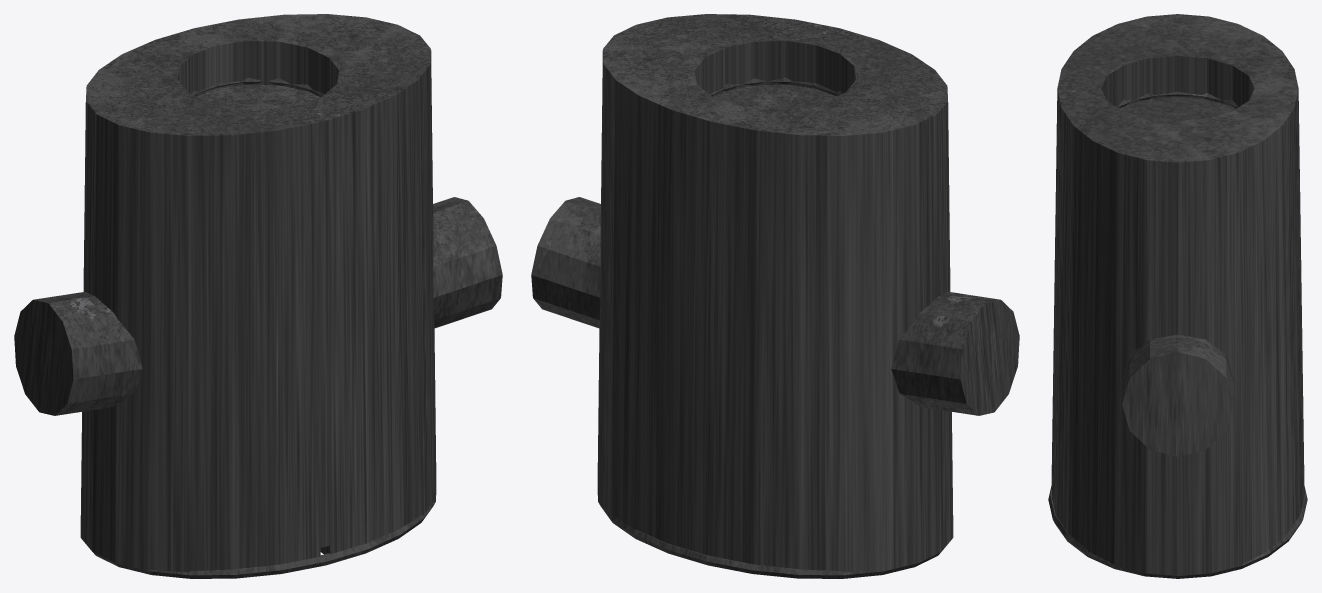
File: chainmail_shirt.glb
3 renders of one model, left to right at view 1: azimuth 30°, elevation 25°; view 2: azimuth 150°, elevation 25°; view 3: azimuth 270°, elevation 25°, orthographic. The views are drawn at different scales.
Visible parts, largest first — view 1: chainmail_shirt; view 2: chainmail_shirt; view 3: chainmail_shirt.
Boxes of the visible parts, x1,y1,x2,y2 form: chainmail_shirt: (14, 14, 502, 578); chainmail_shirt: (531, 14, 1019, 578); chainmail_shirt: (1048, 14, 1307, 578).
Bounding box in the file's own units: 0.6834 × 0.6569 × 0.3715.
1 material, 1 textured.
